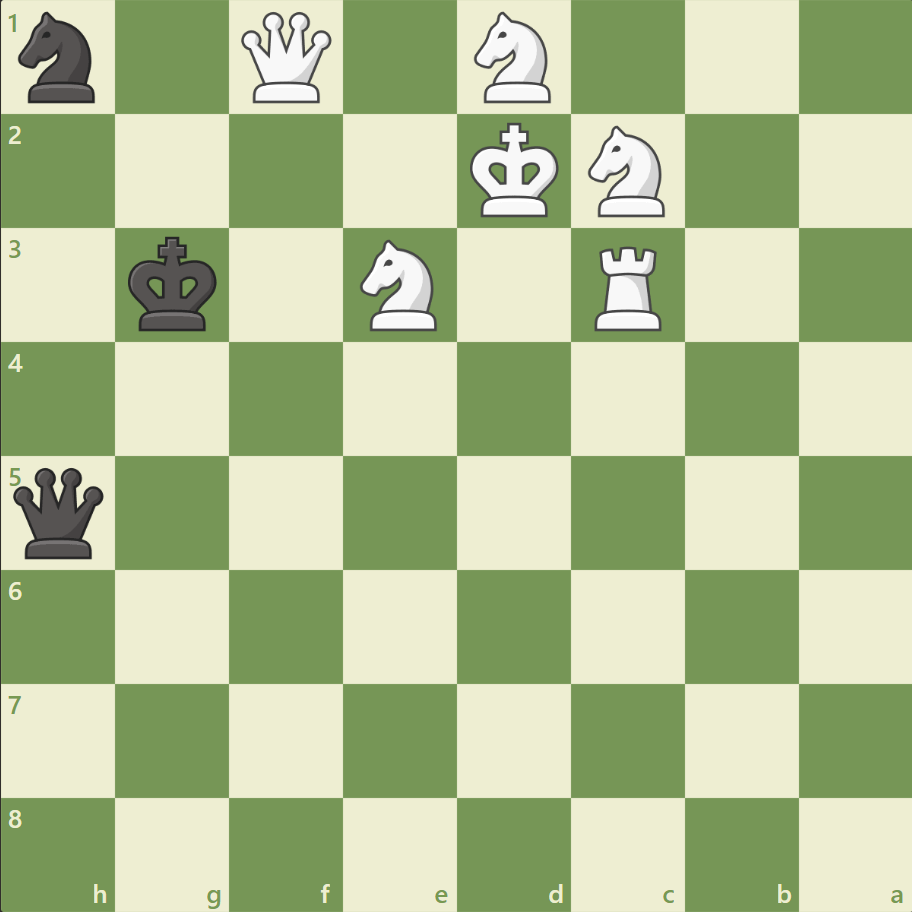K: (465, 117, 565, 225)
N: (351, 234, 449, 337), (465, 7, 562, 110), (579, 121, 676, 223)
Q: (237, 9, 336, 108)
R: (587, 239, 670, 336)
k: (124, 231, 224, 339)
n: (11, 7, 108, 110)
q: (10, 463, 109, 562)
